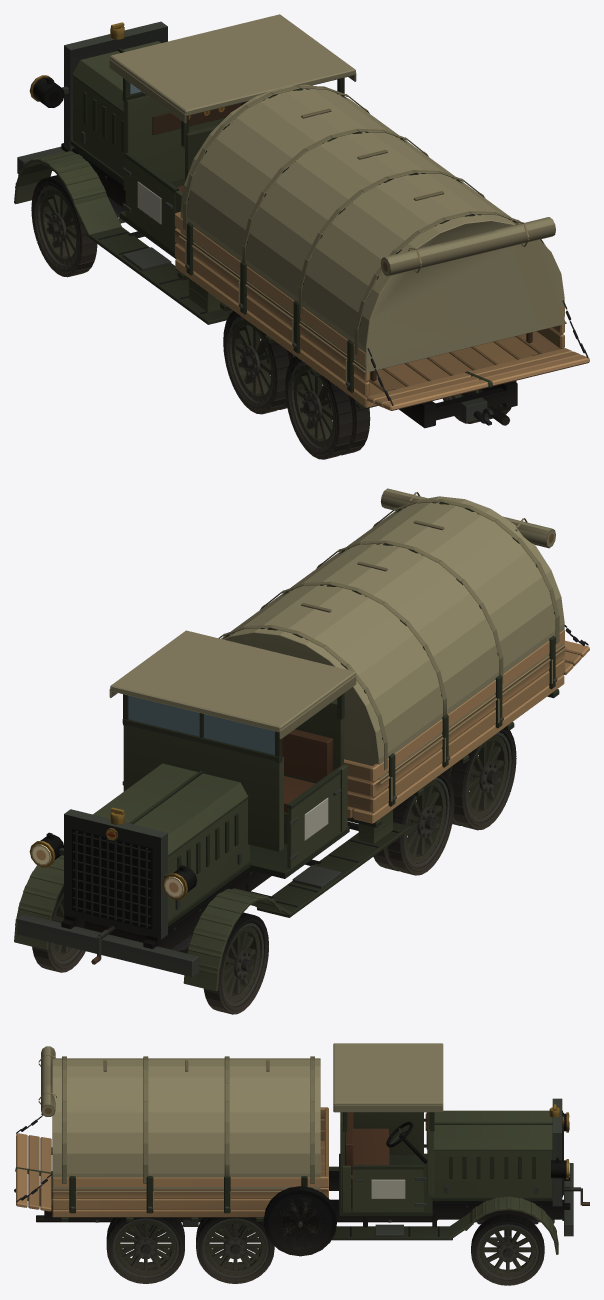
File: kamyon.glb
3 views of the same model, one above another, from view 1: azimuth 30°, elevation 25°; view 2: azimuth 150°, elevation 25°; view 3: azimuth 270°, elevation 25° (orthographic). The views are drawn at different scales.
Visible parts, largest first — view 1: cloth-tilt-003, cloth-cabroof-002, plank-bed-001, dark-cab-008, dark-guards-006, dark-bonnet-004, dark-wheel-019, dark-wheel-023, dark-wheel-017, plank-tailgate-003, dark-radiator-005, dark-frame-001 (+6 smaller); view 2: cloth-tilt-003, dark-cab-008, cloth-cabroof-002, dark-radiator-005, dark-bonnet-004, plank-bed-001, dark-guards-006, dark-frame-001, dark-wheel-019, dark-wheel-023, dark-wheel-017, window-screen-002 (+5 smaller); view 3: cloth-tilt-003, dark-bonnet-004, plank-bed-001, cloth-cabroof-002, dark-cab-008, dark-spare-014, dark-wheel-018, dark-wheel-021, dark-wheel-025, dark-guards-006, dark-frame-001, plank-tailgate-003 (+9 smaller).
Part boxes in pixels (x1=…): cloth-tilt-003: x1=180, y1=84, x2=564, y2=372; cloth-cabroof-002: x1=109, y1=14, x2=356, y2=123; plank-bed-001: x1=175, y1=212, x2=564, y2=407; dark-cab-008: x1=119, y1=77, x2=344, y2=271; dark-guards-006: x1=14, y1=151, x2=233, y2=324; dark-bonnet-004: x1=71, y1=41, x2=184, y2=186; dark-wheel-019: x1=285, y1=356, x2=352, y2=459; dark-wheel-023: x1=223, y1=311, x2=289, y2=414; dark-wheel-017: x1=31, y1=175, x2=97, y2=277; plank-tailgate-003: x1=366, y1=348, x2=589, y2=410; dark-radiator-005: x1=29, y1=21, x2=167, y2=151; dark-frame-001: x1=17, y1=143, x2=517, y2=428; cloth-tilt-003: x1=218, y1=488, x2=564, y2=779; dark-cab-008: x1=122, y1=693, x2=349, y2=888; cloth-cabroof-002: x1=109, y1=630, x2=356, y2=739; dark-radiator-005: x1=29, y1=807, x2=197, y2=964; dark-bonnet-004: x1=93, y1=763, x2=251, y2=926; plank-bed-001: x1=344, y1=629, x2=564, y2=823; dark-guards-006: x1=14, y1=821, x2=410, y2=991; dark-frame-001: x1=17, y1=869, x2=271, y2=976; dark-wheel-019: x1=450, y1=729, x2=516, y2=830; dark-wheel-023: x1=387, y1=772, x2=454, y2=875; dark-wheel-017: x1=203, y1=912, x2=268, y2=1014; window-screen-002: x1=128, y1=695, x2=274, y2=754; cloth-tilt-003: x1=41, y1=1046, x2=320, y2=1190; dark-bonnet-004: x1=430, y1=1110, x2=552, y2=1201; plank-bed-001: x1=52, y1=1107, x2=328, y2=1217; cloth-cabroof-002: x1=333, y1=1043, x2=443, y2=1112; dark-cab-008: x1=339, y1=1112, x2=434, y2=1236; dark-spare-014: x1=264, y1=1186, x2=336, y2=1256; dark-wheel-018: x1=471, y1=1214, x2=544, y2=1285; dark-wheel-021: x1=106, y1=1217, x2=184, y2=1283; dark-wheel-025: x1=196, y1=1217, x2=274, y2=1283; dark-guards-006: x1=329, y1=1166, x2=558, y2=1254; dark-frame-001: x1=44, y1=1163, x2=573, y2=1236; plank-tailgate-003: x1=15, y1=1133, x2=52, y2=1211.
Bounding box in the file's own units: 2.31 × 2.55 × 7.08.
